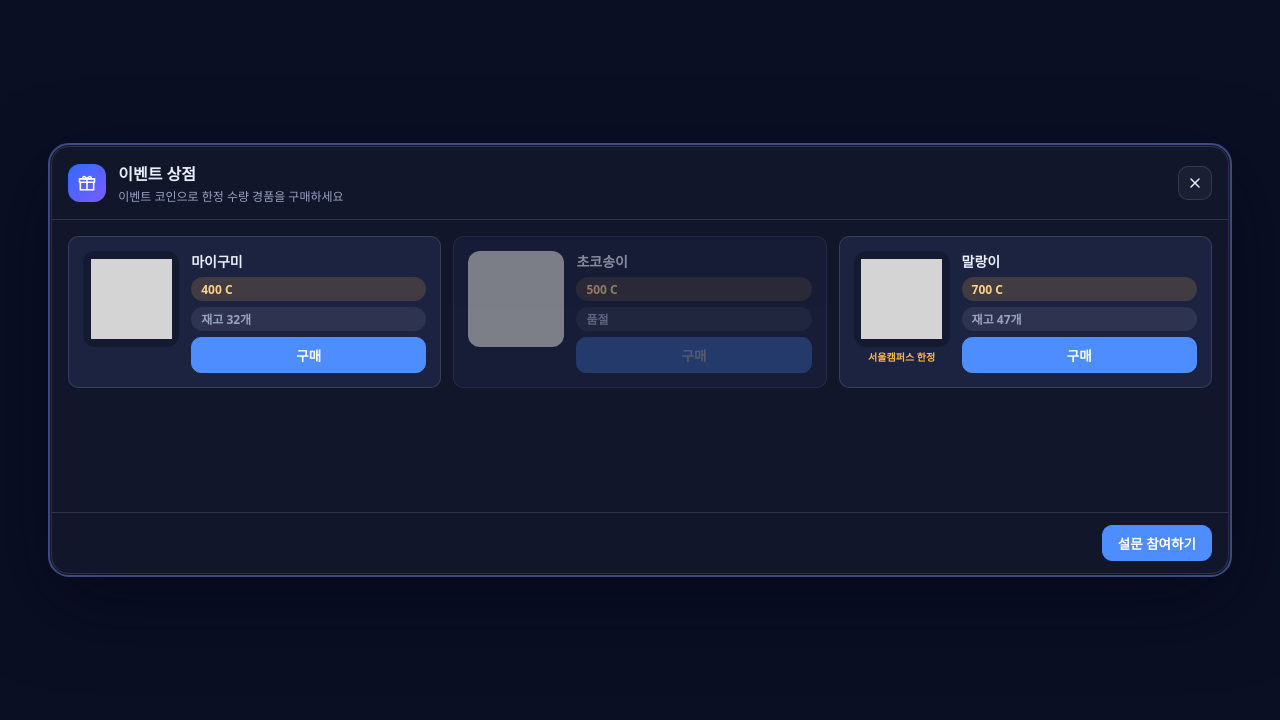
it: 경품이 들어온 뒤 › 말랑이는 캠퍼스가 서울로 고정되고 바꿀 수 없다
The width and height of the screenshot is (1280, 720).
Later steps or results of the test are not shown.
Click the button "구매" below "재고 47개". click: x=1079, y=355
box: [962,337,1197,373]
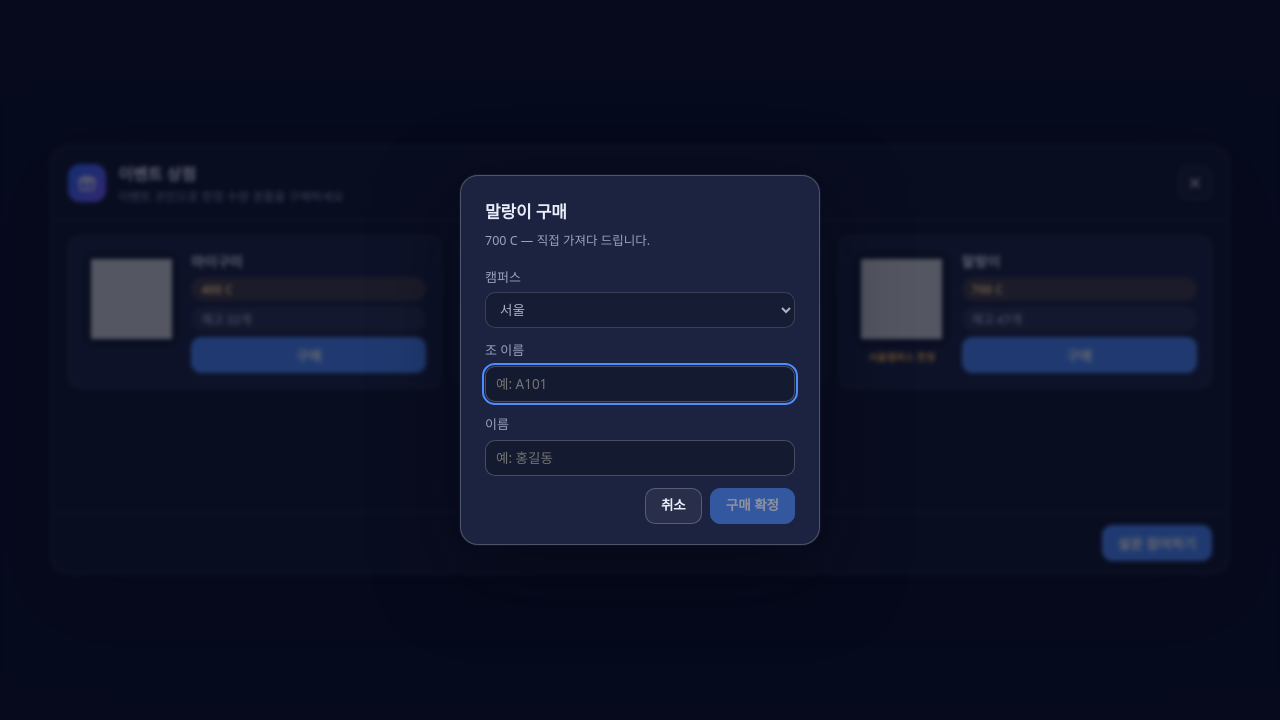
Result: the dropdown labelled "캠퍼스" is disabled at [485,292,795,328]
Result: the dropdown labelled "캠퍼스" shows "서울" at [485,292,795,328]
Result: the text "700 C — 직접 가져다 드립니다." is shown at [485,232,650,249]
